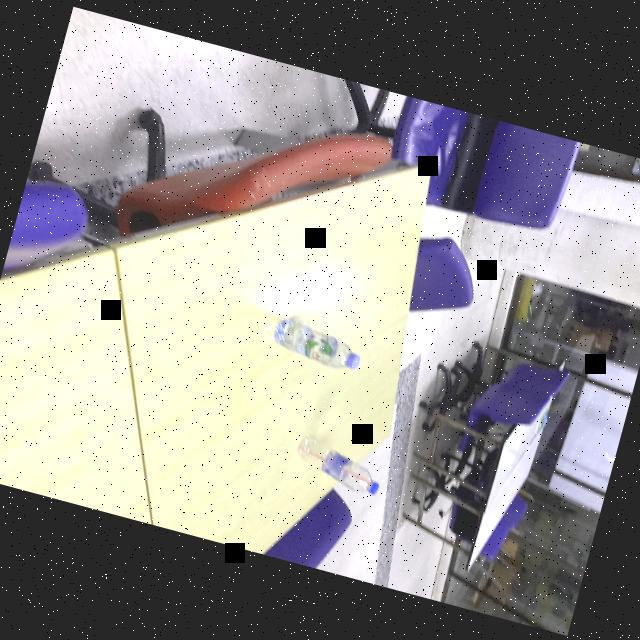plastic_bottle: (288, 430, 390, 500), (268, 308, 369, 375)
